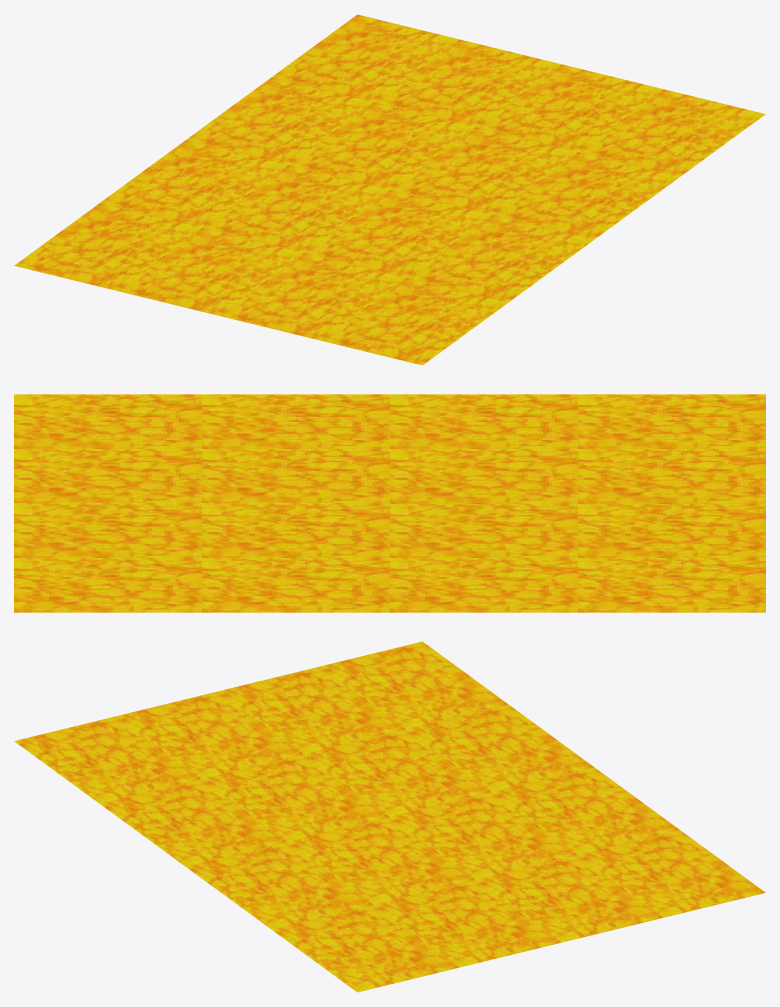
Rendered from plan_1x1.fbx.
The picture shows the model from 3 angles, top to bottom: view 1: azimuth 30°, elevation 25°; view 2: azimuth 150°, elevation 25°; view 3: azimuth 270°, elevation 25°; orthographic projection. The views are drawn at different scales.
Visible parts, largest first — view 1: plan_1x1; view 2: plan_1x1; view 3: plan_1x1.
Part boxes in pixels (x1=…): plan_1x1: x1=14, y1=14, x2=765, y2=365; plan_1x1: x1=14, y1=394, x2=765, y2=612; plan_1x1: x1=14, y1=641, x2=765, y2=992.
Size of the model in its own units: 89.79 by 0.000296 by 81.28.
1 material, 1 textured.
